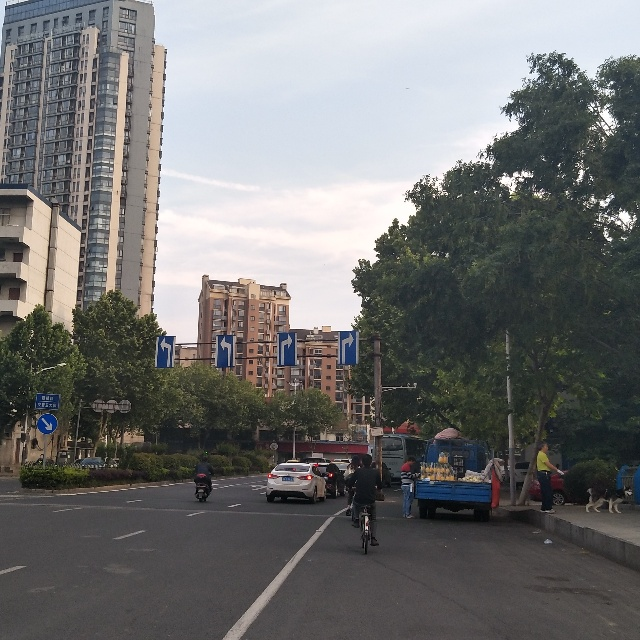left: (151, 332, 177, 370), (215, 335, 236, 368)
right: (277, 330, 298, 369), (340, 330, 357, 363)
